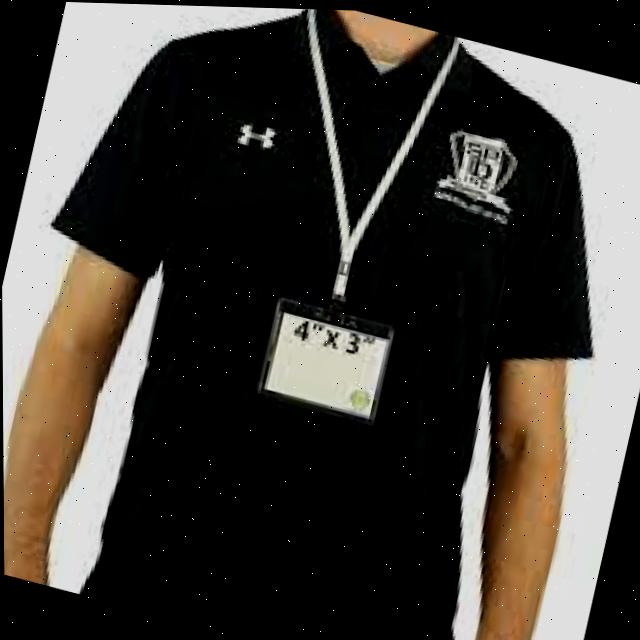id_card: (215, 5, 470, 432)
